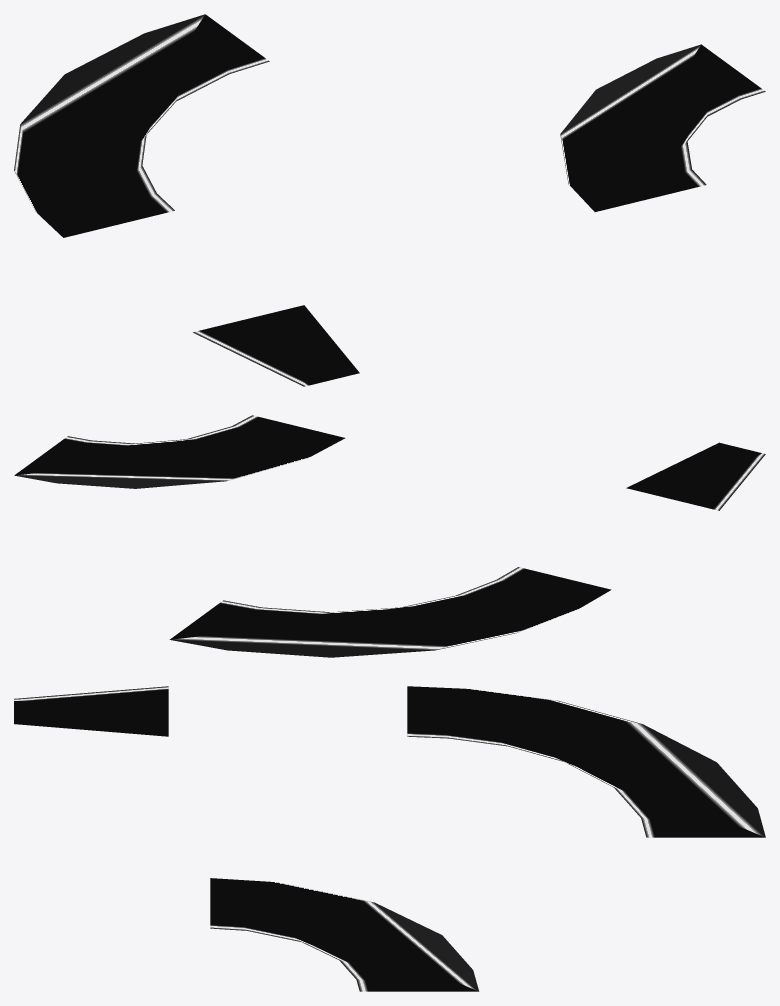
File: 40W Curves LOWPOLY.FBX
3 views of the same model, one above another, from view 1: azimuth 30°, elevation 25°; view 2: azimuth 150°, elevation 25°; view 3: azimuth 270°, elevation 25° (orthographic). The views are drawn at different scales.
Parts seen in each view (by area): view 1: 40W 120R 90° LP, 40W 90R 90° LP, Transition 20 40 LP; view 2: 40W 120R 90° LP, 40W 90R 90° LP, Transition 20 40 LP; view 3: 40W 120R 90° LP, 40W 90R 90° LP, Transition 20 40 LP.
Part boxes in pixels (x1=…): 40W 120R 90° LP: x1=14, y1=14, x2=269, y2=237; 40W 90R 90° LP: x1=560, y1=44, x2=765, y2=211; Transition 20 40 LP: x1=193, y1=305, x2=359, y2=386; 40W 120R 90° LP: x1=169, y1=567, x2=611, y2=657; 40W 90R 90° LP: x1=14, y1=415, x2=345, y2=488; Transition 20 40 LP: x1=626, y1=442, x2=765, y2=510; 40W 120R 90° LP: x1=407, y1=686, x2=765, y2=837; 40W 90R 90° LP: x1=210, y1=878, x2=479, y2=991; Transition 20 40 LP: x1=14, y1=686, x2=168, y2=736.
Bounding box in the file's own units: 242 × 3.77e-05 × 252.
